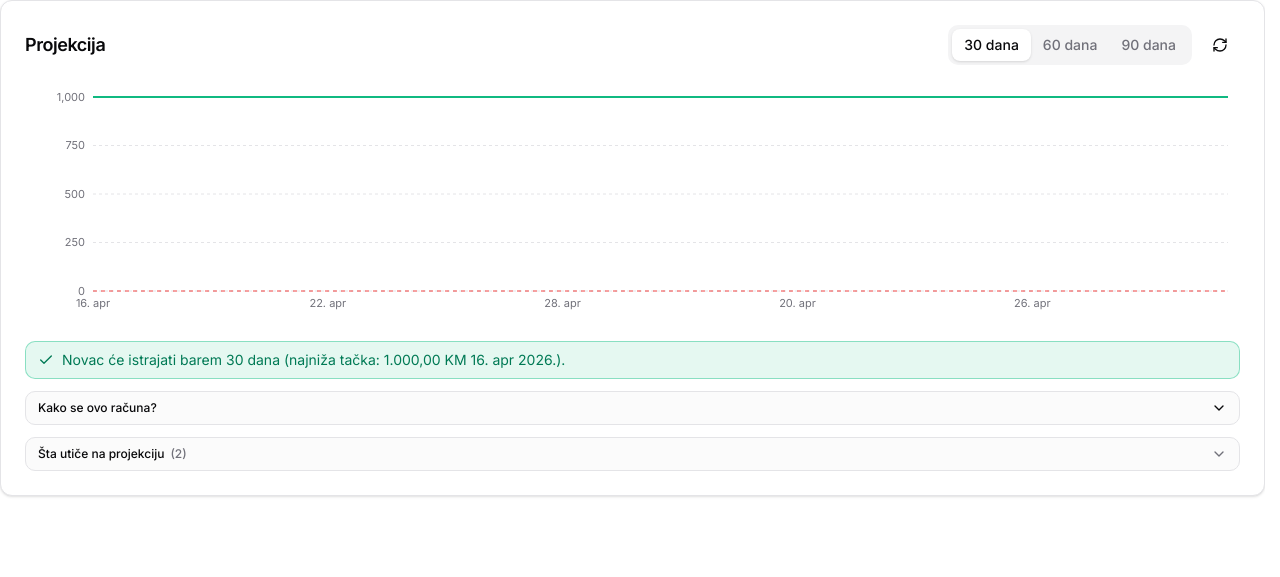
Test: ForecastWidget › lists active recurring entries with their period label and paused badge
# Open the collapsible so the list contents are queryable by visible text.
Click the heading "Šta utiče na projekciju(2)" at (101, 454), box [38,446,1227,462]
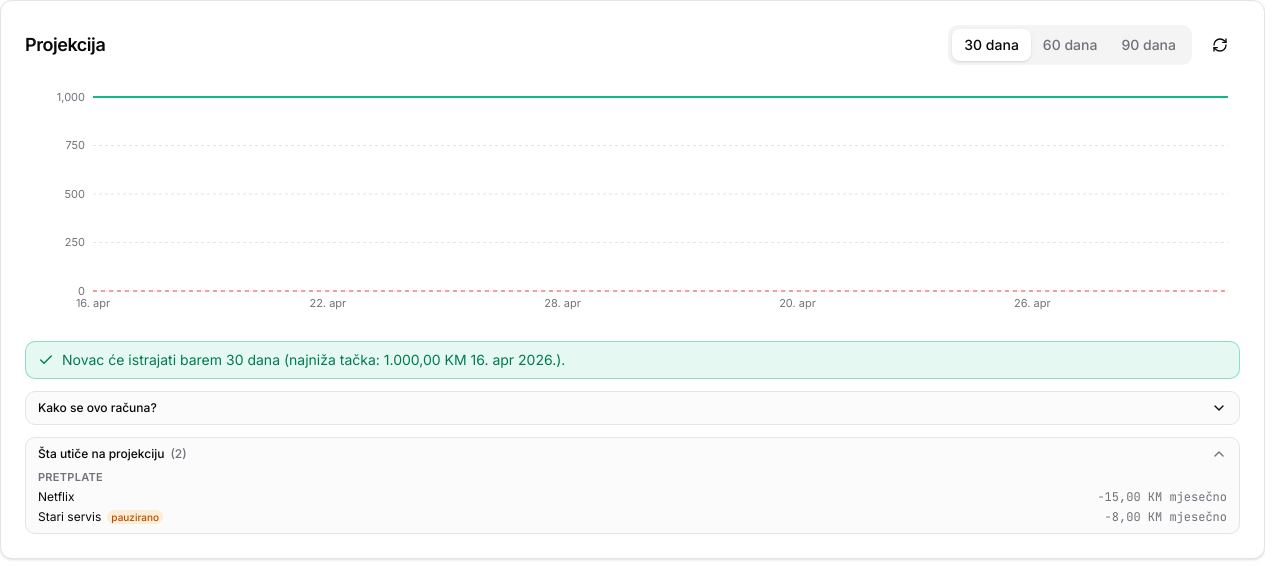
Expected: the text "Netflix" is shown, [38,489,74,505]
Expected: the text "Stari servis" is shown, [38,509,101,524]
Expected: the text "pauzirano" is shown, [107,510,163,524]
